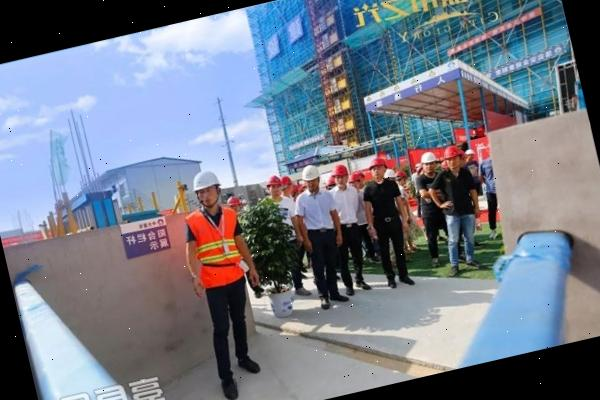helmet: (188, 167, 224, 194), (440, 142, 466, 163), (302, 163, 322, 183), (366, 156, 388, 174), (418, 149, 439, 167), (328, 162, 349, 178), (265, 172, 282, 188), (225, 194, 240, 206)
no_wear: (430, 167, 482, 221), (294, 189, 336, 235), (366, 180, 402, 226), (330, 183, 366, 228)
wear: (180, 204, 251, 296)
